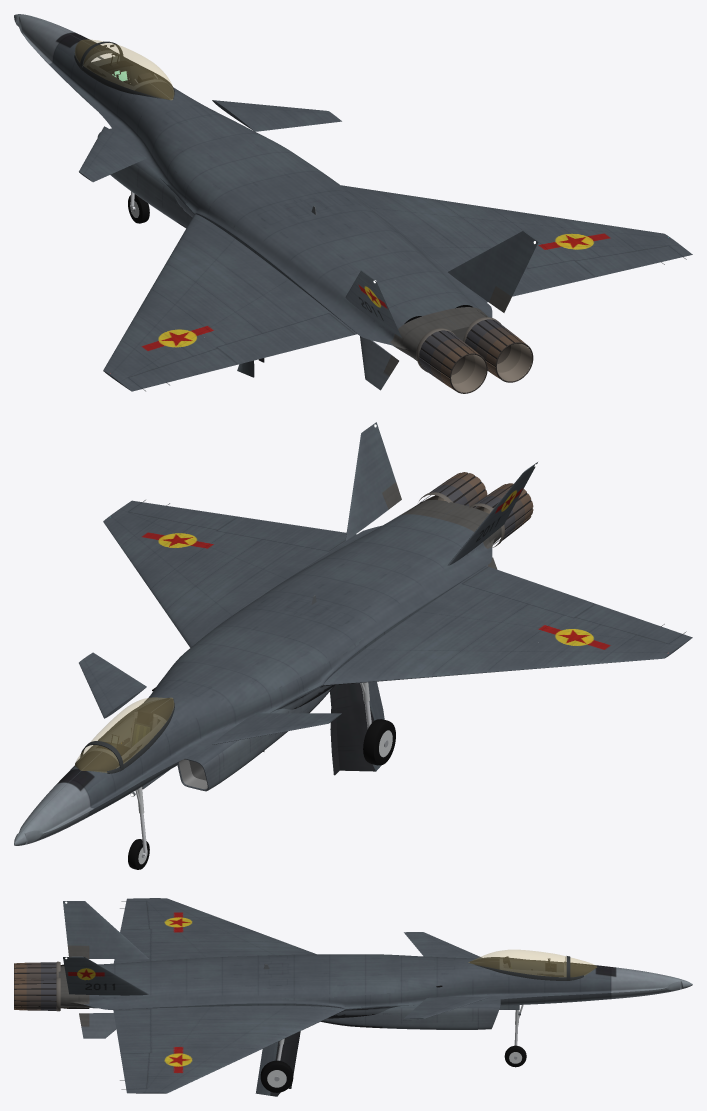
3 renders of one model, top to bottom at view 1: azimuth 30°, elevation 25°; view 2: azimuth 150°, elevation 25°; view 3: azimuth 270°, elevation 25°, orthographic. The views are drawn at different scales.
Visible parts, largest first — view 1: fuselage, nozzle, rudder_R, canopy, flap_L, stab_R, stab_L, ail_L, ail_R, flap_R, cockpit, rudder_L; view 2: fuselage, gear_main_L, canopy, rudder_R, nozzle, flap_L, flap_R, stab_R, stab_L, cockpit, ail_L, rudder_L (+2 smaller); view 3: fuselage, rudder_L, nozzle, canopy, rudder_R, gear_main_R, flap_R, stab_L, cockpit, stab_R, ail_R, ail_L (+2 smaller).
Part boxes in pixels (box(x1,y1,x2,y2)): fuselage: box(14, 14, 692, 391); nozzle: box(404, 305, 533, 393); rudder_R: box(448, 231, 538, 312); canopy: box(75, 39, 173, 99); flap_L: box(217, 313, 354, 364); stab_R: box(212, 100, 341, 131); stab_L: box(79, 126, 146, 182); ail_L: box(128, 348, 237, 388); ail_R: box(575, 246, 682, 277); flap_R: box(512, 260, 594, 296); cockpit: box(83, 44, 167, 90); rudder_L: box(345, 270, 401, 337); fuselage: box(14, 500, 692, 845); gear_main_L: box(330, 681, 395, 775); canopy: box(75, 697, 173, 772); rudder_R: box(345, 422, 401, 540); nozzle: box(412, 472, 533, 547); flap_L: box(462, 566, 595, 617); flap_R: box(217, 516, 346, 551); stab_R: box(79, 652, 146, 718); stab_L: box(212, 713, 341, 744); cockpit: box(85, 710, 166, 763); ail_L: box(575, 604, 682, 643); rudder_L: box(447, 462, 537, 565); fuselage: box(58, 898, 692, 1093); rudder_L: box(63, 901, 148, 958); nozzle: box(14, 961, 89, 1011); canopy: box(468, 950, 596, 976); rudder_R: box(63, 956, 148, 995); gear_main_R: box(255, 1031, 300, 1096); flap_R: box(113, 1009, 151, 1053); stab_L: box(404, 932, 481, 958); cockpit: box(499, 956, 566, 977); stab_R: box(404, 996, 487, 1019); ail_R: box(120, 1053, 149, 1089); ail_L: box(120, 901, 149, 929).
Bounding box in the file's own units: 13.5 × 4.76 × 19.91.
9 materials, 1 textured.
